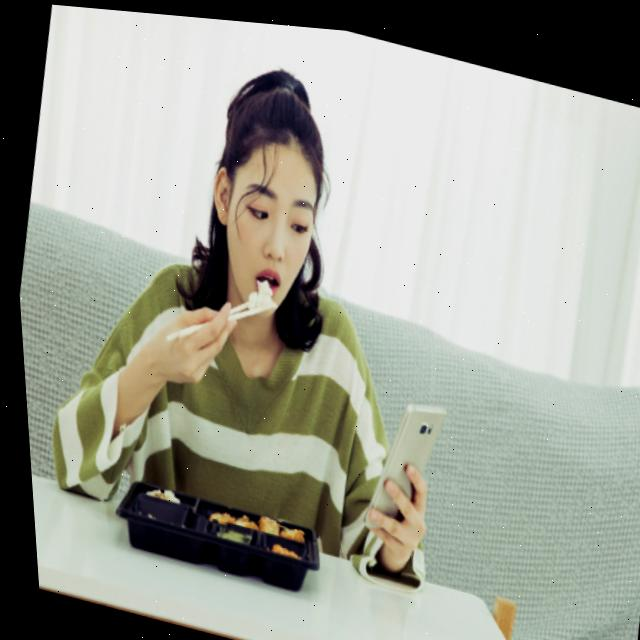eating-person: (5, 0, 517, 622)
